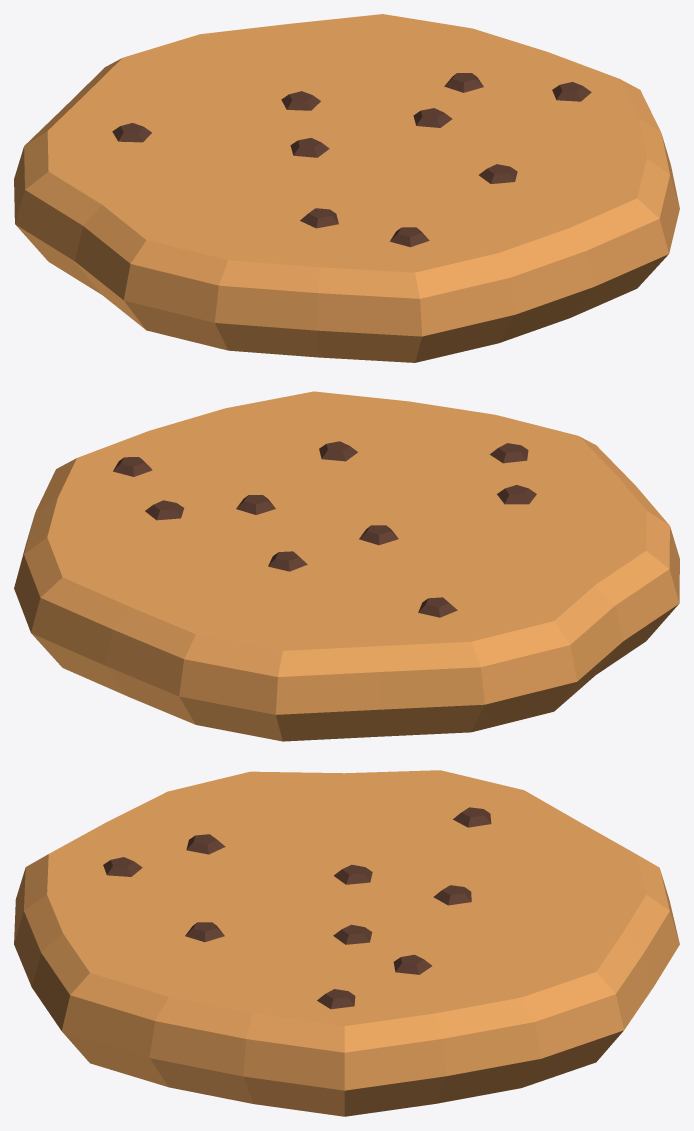
File: CV3_CookieM.fbx
3 views of the same model, one above another, from view 1: azimuth 30°, elevation 25°; view 2: azimuth 150°, elevation 25°; view 3: azimuth 270°, elevation 25° (orthographic).
Parts seen in each view (by area): view 1: CV3_CookieM_Dough, CV3_CookieM_Chips; view 2: CV3_CookieM_Dough, CV3_CookieM_Chips; view 3: CV3_CookieM_Dough, CV3_CookieM_Chips.
Boxes of the visible parts, x1,y1,x2,y2 form: CV3_CookieM_Dough: (14,14,679,362); CV3_CookieM_Chips: (112,73,591,247); CV3_CookieM_Dough: (14,391,679,741); CV3_CookieM_Chips: (113,441,536,617); CV3_CookieM_Dough: (14,770,679,1116); CV3_CookieM_Chips: (103,807,491,1009).
Bounding box in the file's own units: 13.47 × 2.15 × 13.33.
